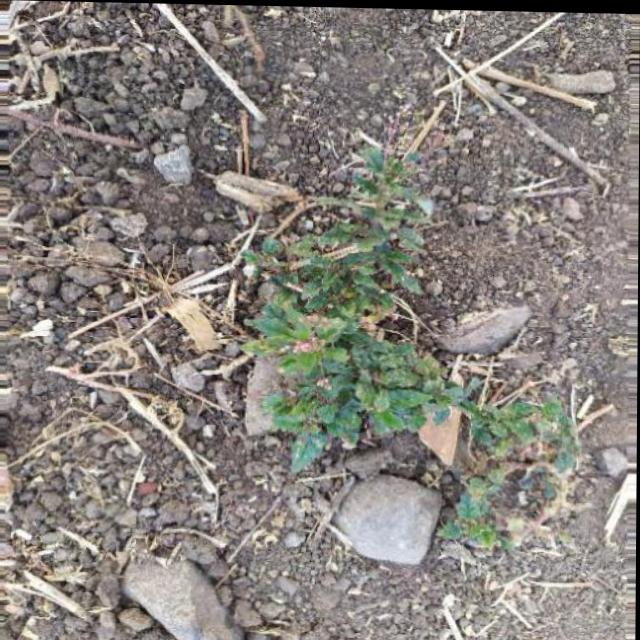weed: (223, 151, 555, 547)
